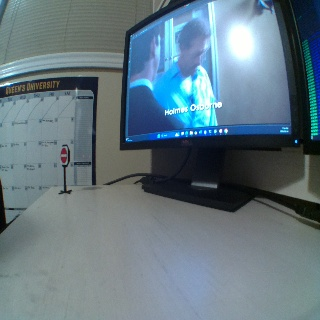sign_noentry: (59, 146, 67, 165)
